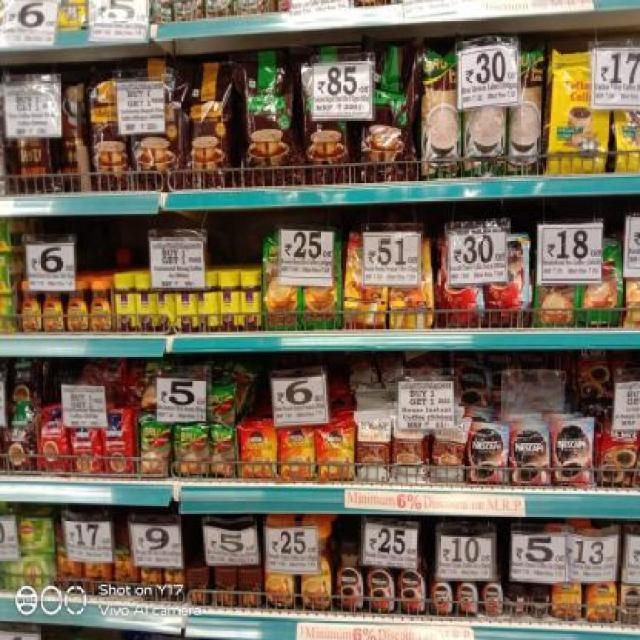Coffee: (486, 235, 529, 328), (439, 240, 485, 326), (390, 238, 433, 328), (345, 235, 386, 327), (300, 525, 334, 611), (263, 520, 295, 609), (552, 421, 594, 488), (585, 543, 616, 623), (510, 426, 551, 486), (552, 541, 582, 617), (468, 426, 507, 483), (396, 544, 428, 613), (365, 544, 396, 611), (316, 426, 354, 479), (240, 426, 278, 478), (338, 543, 365, 610), (279, 428, 315, 478), (456, 364, 490, 411), (457, 562, 480, 615), (429, 563, 453, 613), (482, 563, 504, 615), (621, 566, 640, 624), (67, 279, 88, 331), (42, 291, 64, 332), (92, 282, 110, 330), (21, 282, 39, 330), (528, 583, 551, 617), (506, 580, 526, 612)
